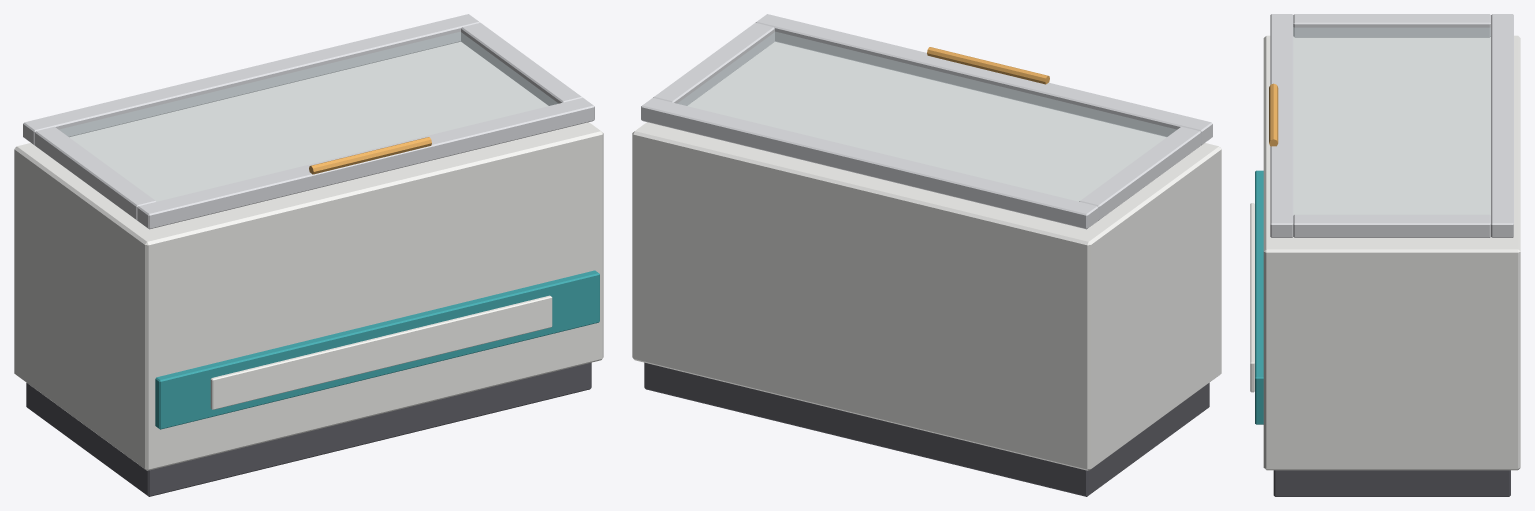
File: pet-shop-and-grooming-salon-chest-freezer-352e154b__34574.glb
3 views of the same model, side by side, from view 1: azimuth 30°, elevation 25°; view 2: azimuth 150°, elevation 25°; view 3: azimuth 270°, elevation 25° (orthographic). The views are drawn at different scales.
Parts seen in each view (by area): view 1: chest-freezer, freezer-lid/glass, freezer-lid/metal, freezer-lid/warm; view 2: chest-freezer, freezer-lid/glass, freezer-lid/metal, freezer-lid/warm; view 3: chest-freezer, freezer-lid/glass, freezer-lid/metal, freezer-lid/warm.
Boxes of the visible parts, x1,y1,x2,y2 form: chest-freezer: (14, 41, 603, 496); freezer-lid/glass: (59, 32, 557, 201); freezer-lid/metal: (23, 14, 594, 229); freezer-lid/warm: (309, 137, 431, 174); chest-freezer: (632, 41, 1221, 496); freezer-lid/glass: (678, 32, 1176, 201); freezer-lid/metal: (641, 14, 1212, 229); freezer-lid/warm: (927, 47, 1049, 84); chest-freezer: (1250, 35, 1520, 496); freezer-lid/glass: (1293, 27, 1490, 214); freezer-lid/metal: (1270, 14, 1513, 237); freezer-lid/warm: (1269, 83, 1278, 146).
Size of the model in its own units: 1.55 by 0.944 by 0.821.
